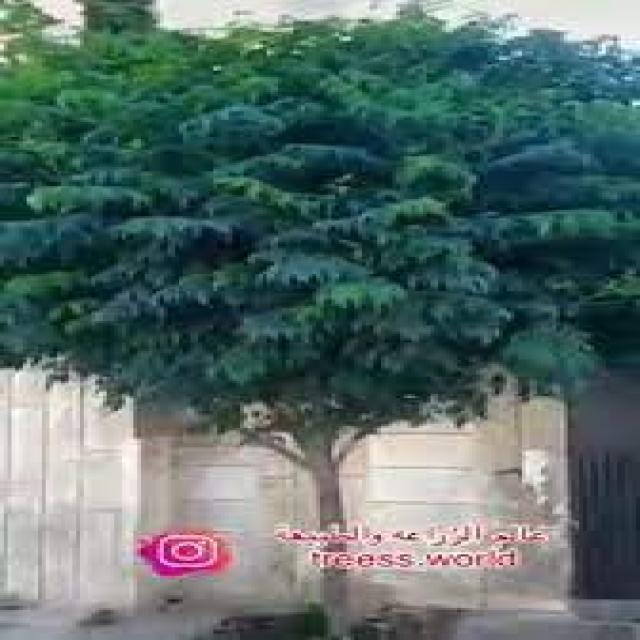tree: (4, 7, 640, 630)
